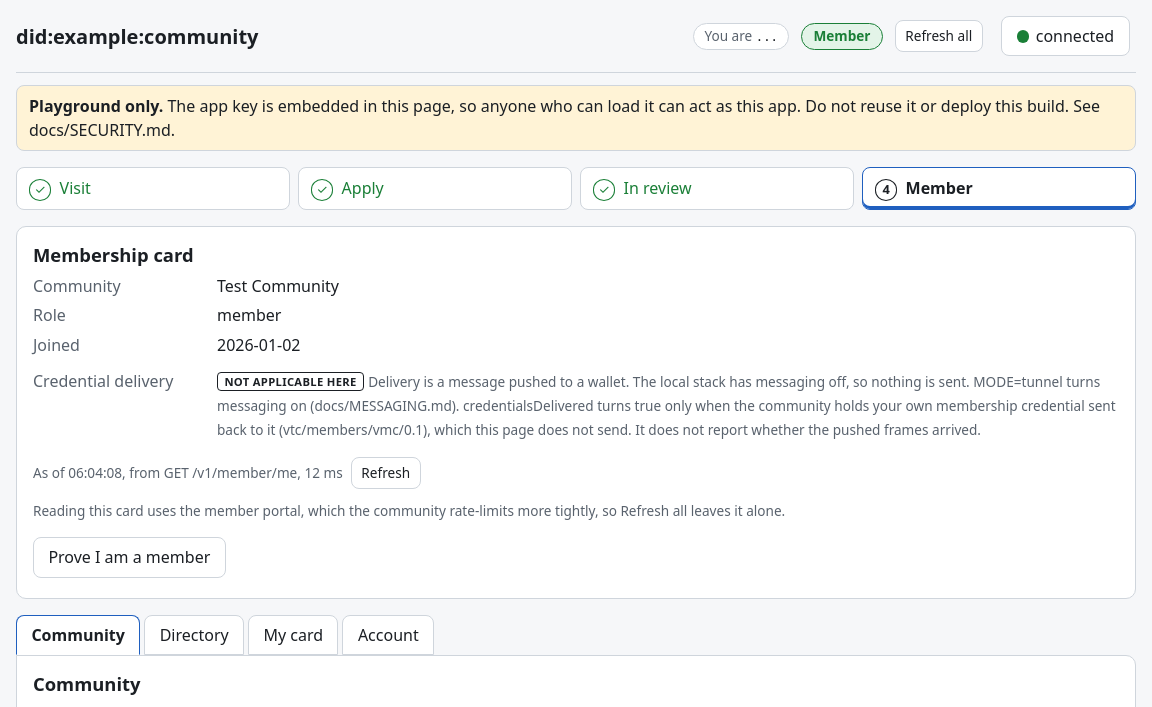
Test: member › a refusal is explained in words and the member-only panel shows the refusal, not stale data
The image size is (1152, 707).
Click the tab "Directory" at (194, 635), box [144,614,244,655]
(page scrolled)
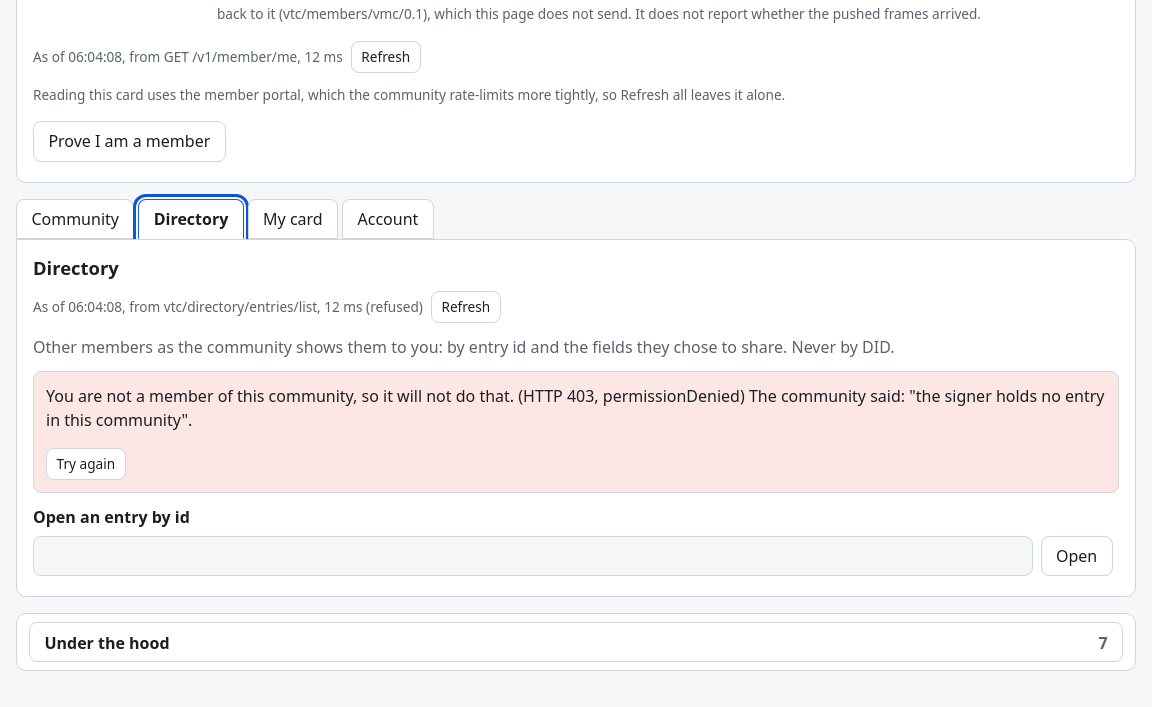
Expected: the 3rd message shows "not a member", [46,385,1104,431]
